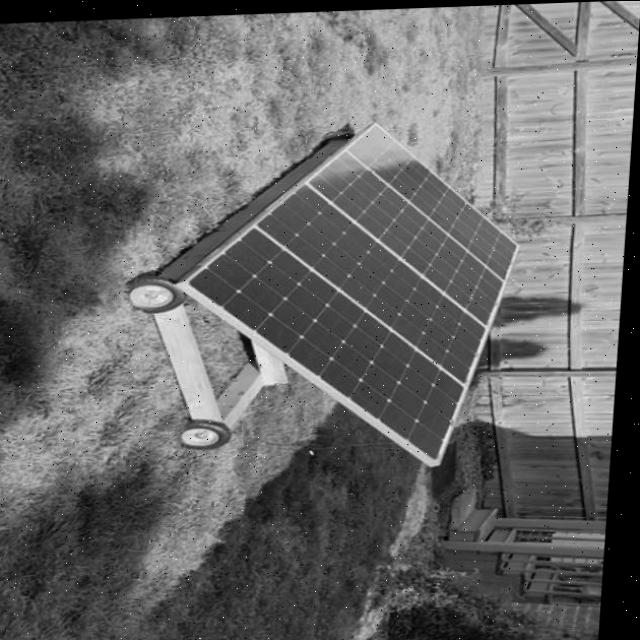Normal Solar Panel: (177, 114, 530, 472)
